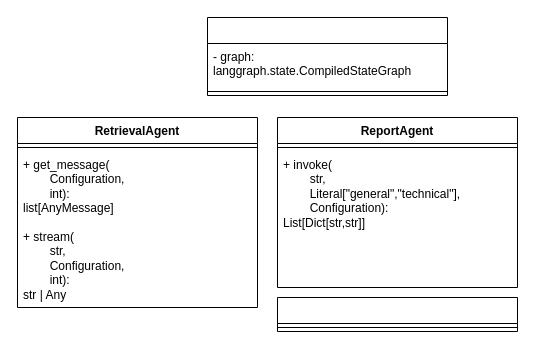
Some shapes in this 535 by 349 pixel diagram are drawn without their labels. The box of each missing label's shape, as (x1, y1, x2, y2) in pixels:
BaseAgent: (206, 16, 448, 96)
IndexAgent: (276, 296, 518, 332)
